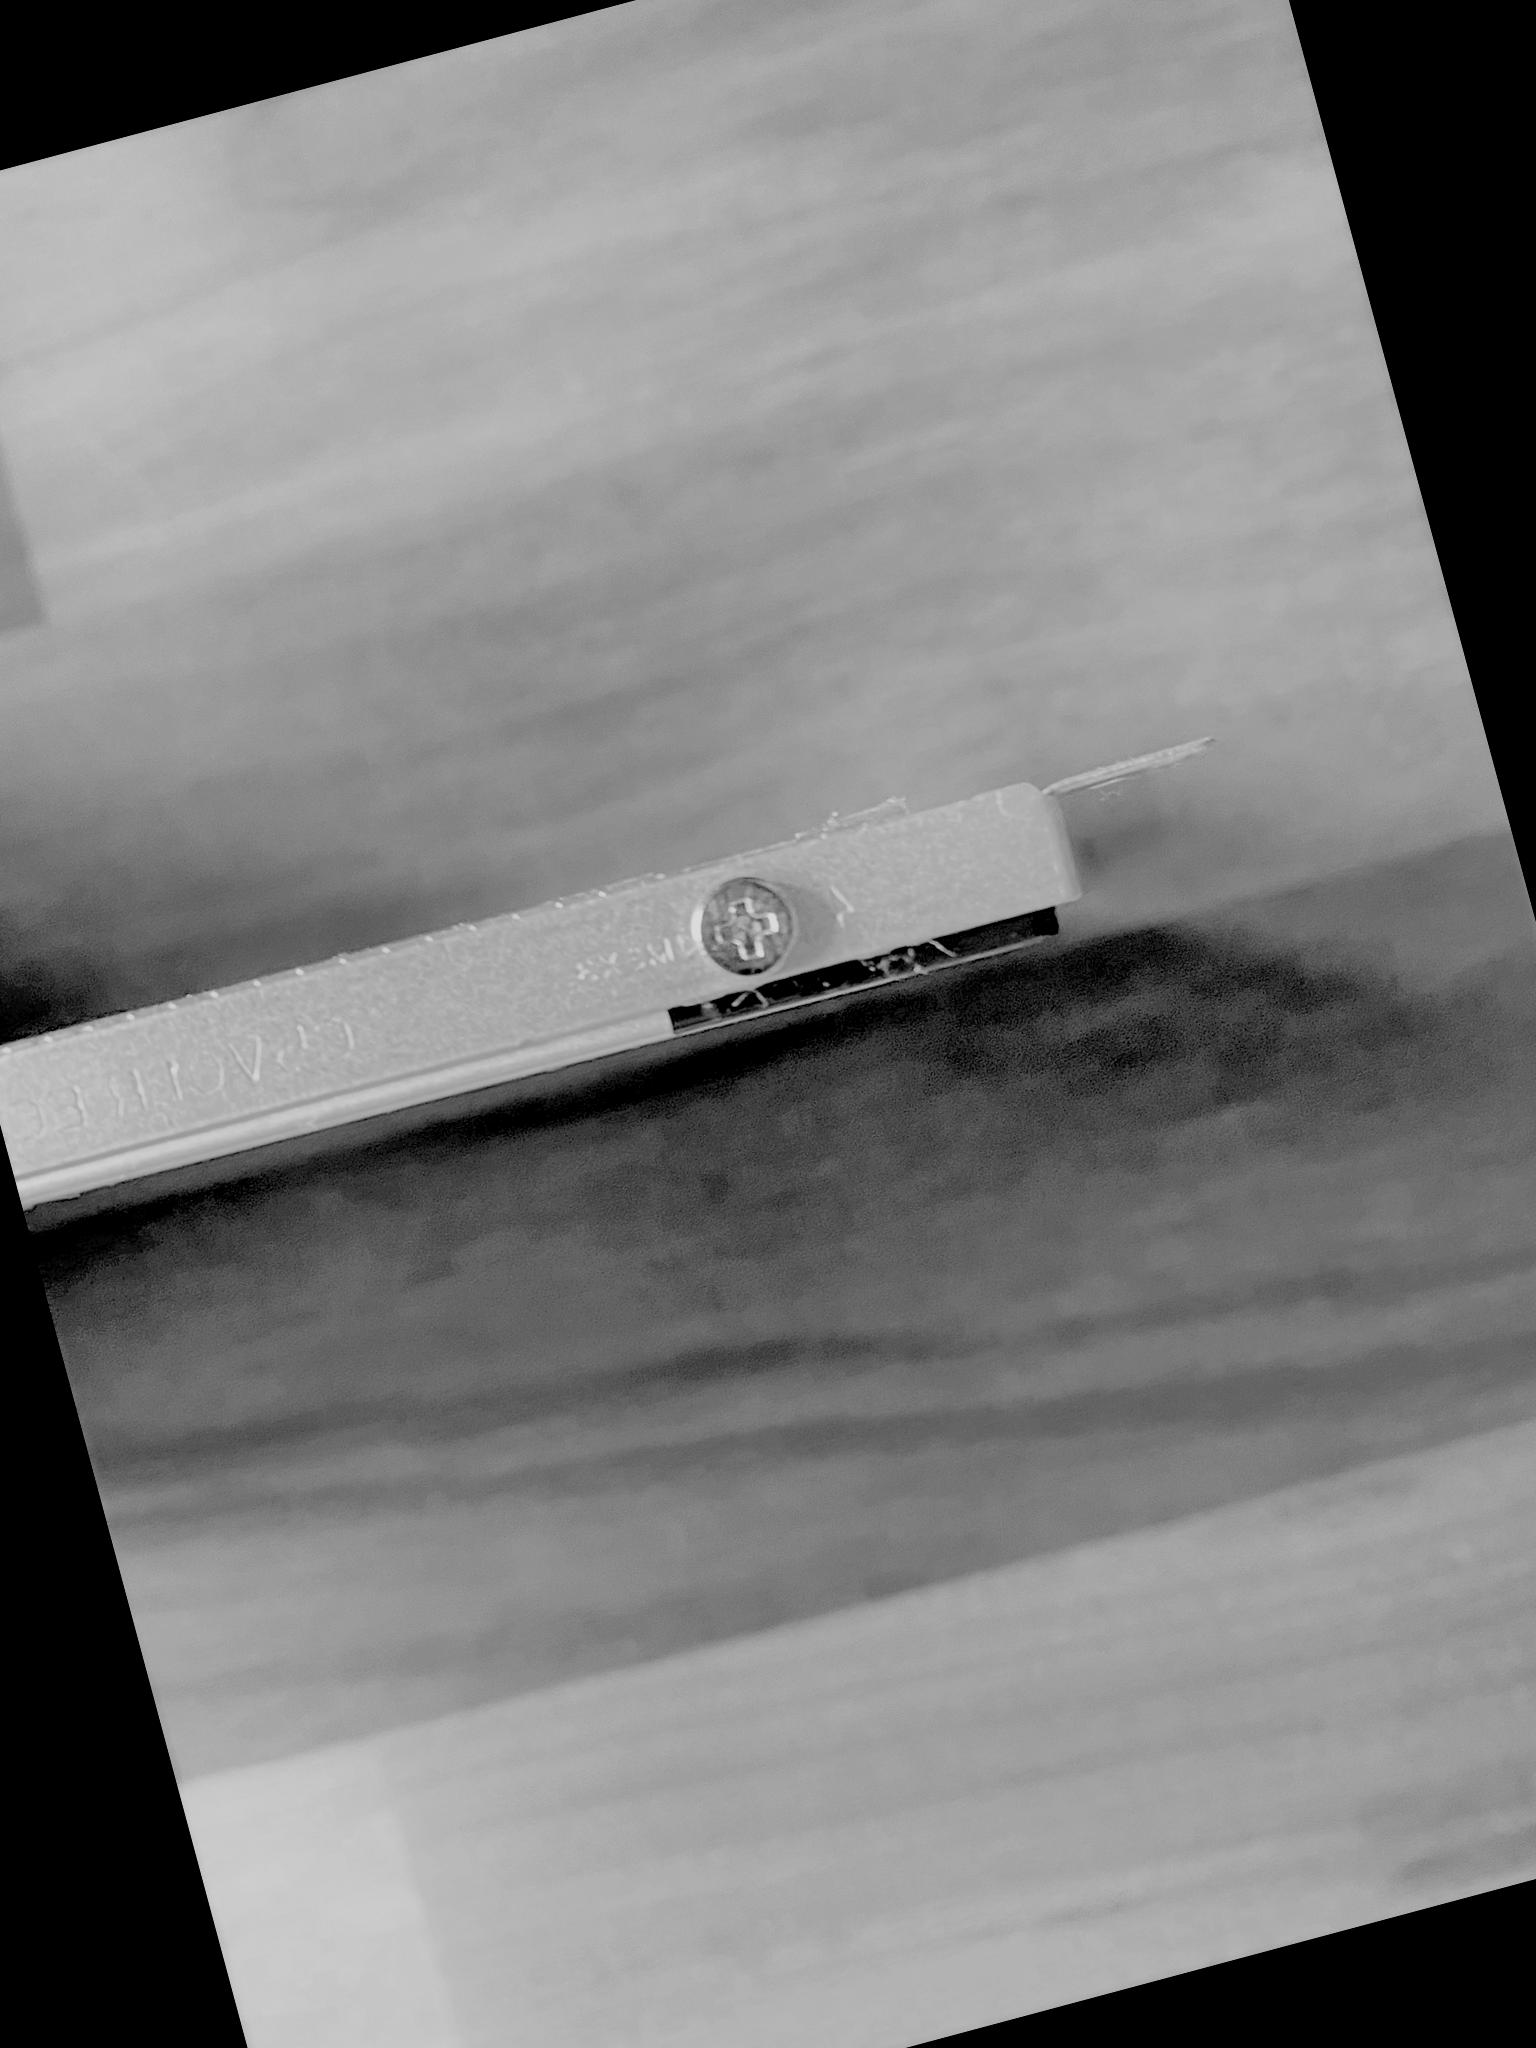philips-PZ: (676, 861, 812, 992)
